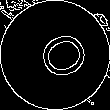O_SW: (23, 25, 87, 85)
